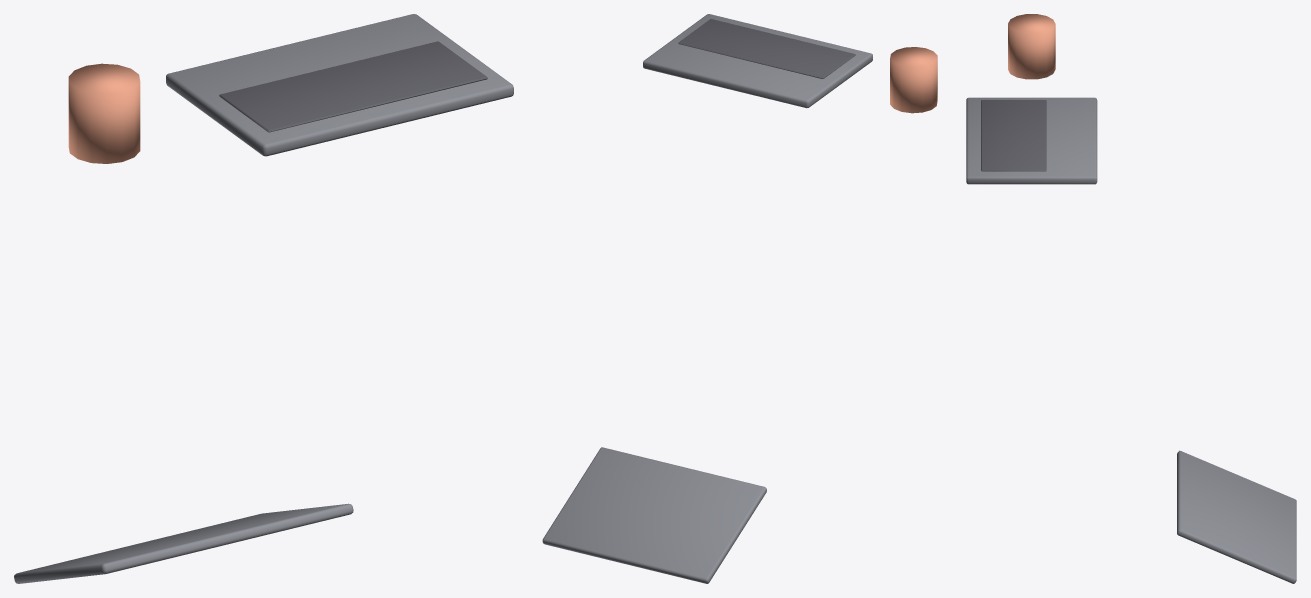
The model's file is Modular_Laptop_Mug.fbx.
The picture shows the model from 3 angles, left to right: view 1: azimuth 30°, elevation 25°; view 2: azimuth 150°, elevation 25°; view 3: azimuth 270°, elevation 25°; orthographic projection. The views are drawn at different scales.
Visible parts, largest first — view 1: Modular_Laptop_Mug; view 2: Modular_Laptop_Mug; view 3: Modular_Laptop_Mug.
Part boxes in pixels (x1=…): Modular_Laptop_Mug: x1=14, y1=14, x2=513, y2=583; Modular_Laptop_Mug: x1=542, y1=14, x2=937, y2=583; Modular_Laptop_Mug: x1=966, y1=14, x2=1296, y2=583.
Bounding box in the file's own units: 49.9 × 82.53 × 55.52.
